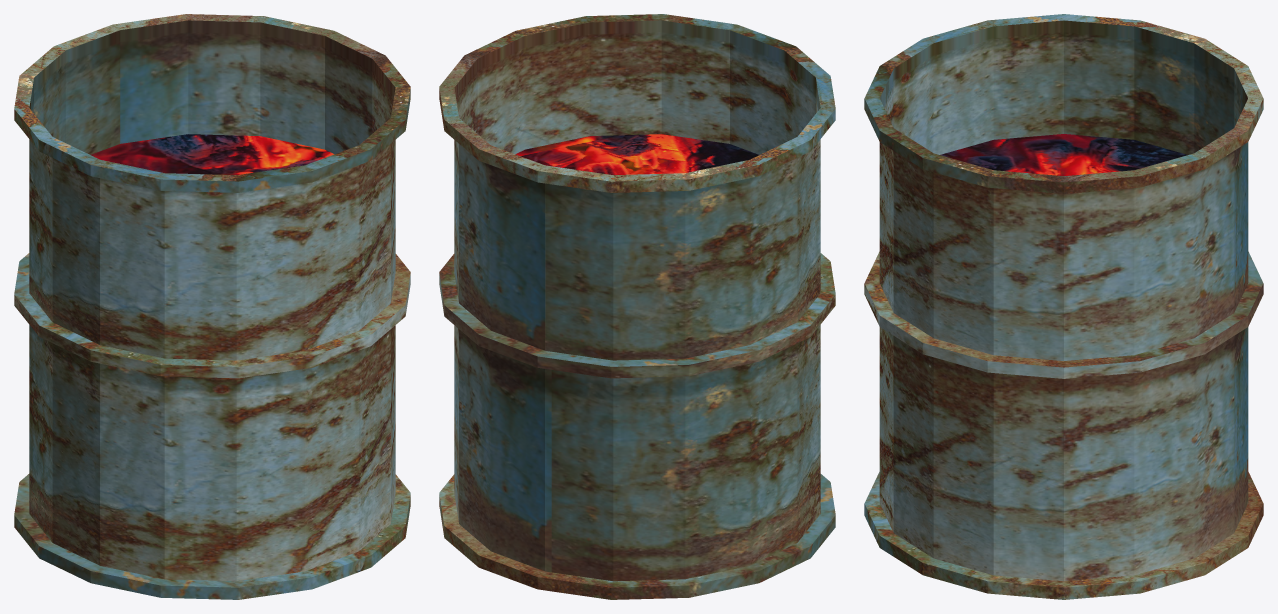
The model's file is Barrel.fbx.
3 views of the same model, side by side, from view 1: azimuth 30°, elevation 25°; view 2: azimuth 150°, elevation 25°; view 3: azimuth 270°, elevation 25° (orthographic).
Visible parts, largest first — view 1: Cylinder; view 2: Cylinder; view 3: Cylinder.
Part boxes in pixels (x1,y1,x2,y2): Cylinder: [14, 14, 410, 599]; Cylinder: [439, 14, 835, 599]; Cylinder: [864, 14, 1263, 599].
Bounding box in the file's own units: 217 × 250 × 217.
